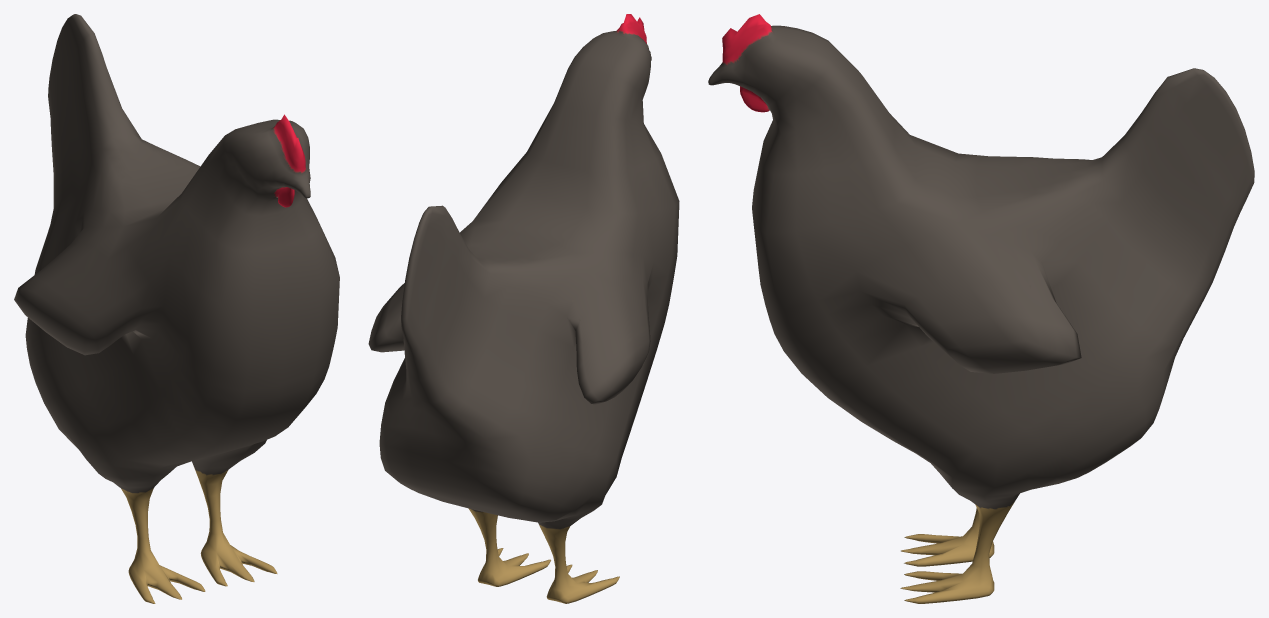
Rendered from Chicken.glb.
3 renders of one model, left to right at view 1: azimuth 30°, elevation 25°; view 2: azimuth 150°, elevation 25°; view 3: azimuth 270°, elevation 25°, orthographic. The views are drawn at different scales.
Parts seen in each view (by area): view 1: Cube; view 2: Cube; view 3: Cube.
Boxes of the visible parts, box(x1,y1,x2,y2) form: Cube: box(14, 14, 339, 603); Cube: box(368, 14, 679, 603); Cube: box(708, 14, 1254, 603).
Size of the model in its own units: 1.14 by 2.24 by 1.98.
1 material, 1 textured.
